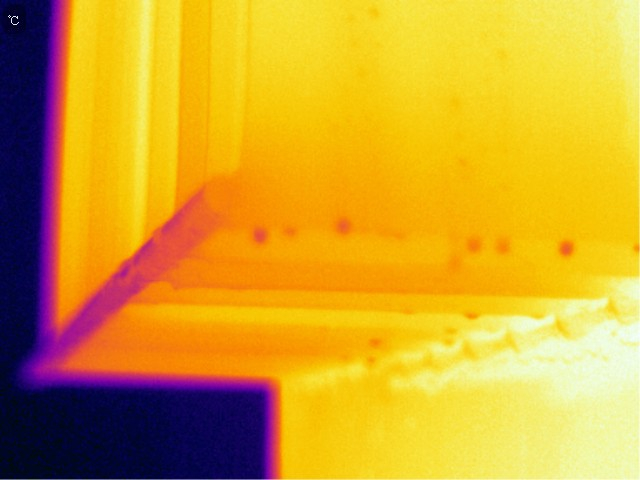Water: (550, 235, 580, 262), (329, 215, 354, 238), (279, 221, 301, 246), (246, 227, 272, 246), (463, 232, 485, 254), (491, 235, 513, 257), (458, 309, 486, 324), (360, 332, 385, 348)
